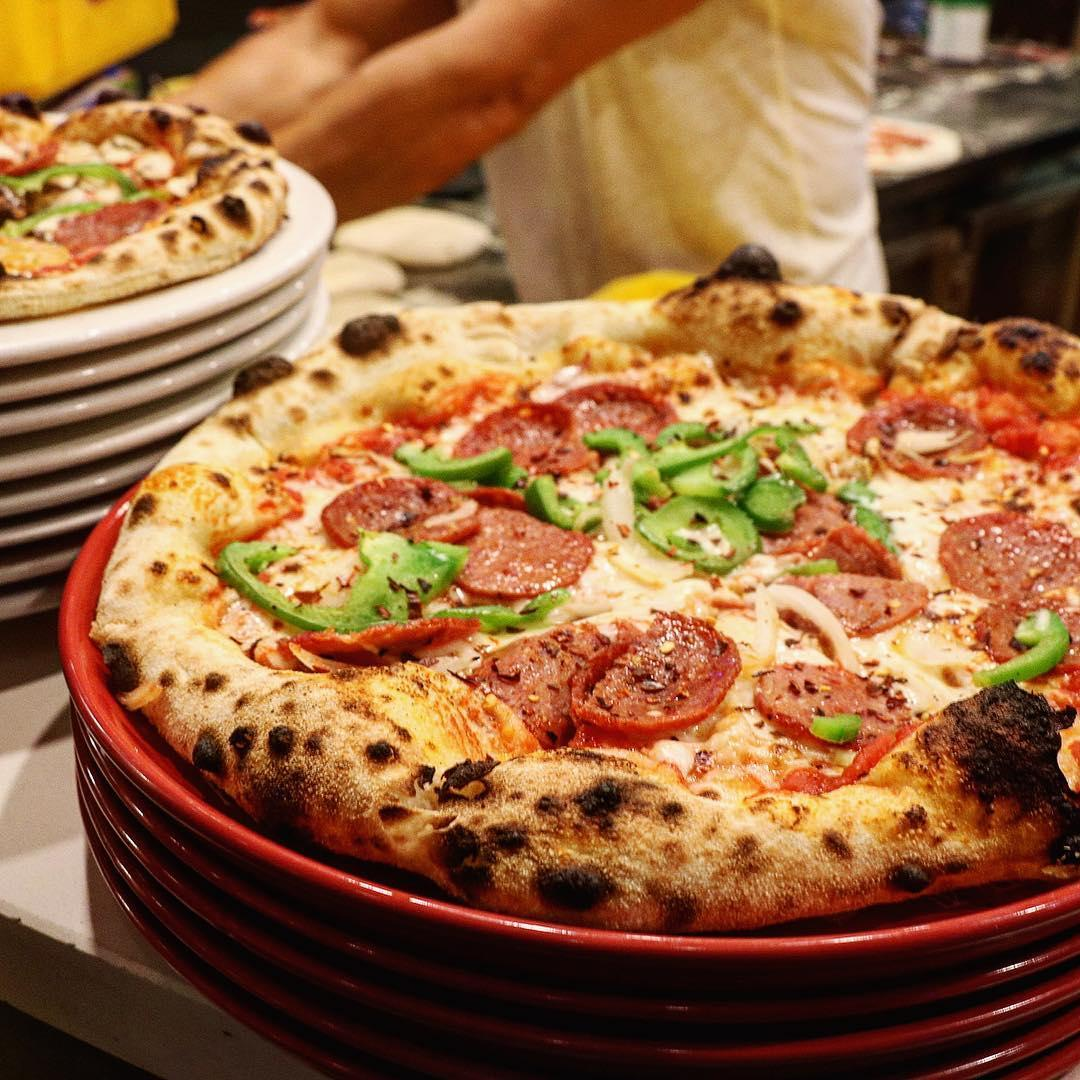Pepperoni: (478, 612, 738, 741), (794, 528, 928, 628), (754, 666, 913, 745), (938, 515, 1080, 596), (462, 512, 597, 597), (845, 395, 983, 478), (554, 389, 680, 470), (975, 596, 1080, 691), (320, 480, 478, 542), (276, 611, 478, 656), (455, 402, 572, 460)
Peppers: (639, 423, 802, 573), (218, 541, 462, 623), (392, 440, 530, 499), (513, 471, 599, 537), (0, 157, 137, 194), (0, 200, 107, 241), (1024, 613, 1067, 674)
Pizza: (105, 292, 1080, 932), (0, 100, 290, 320)
